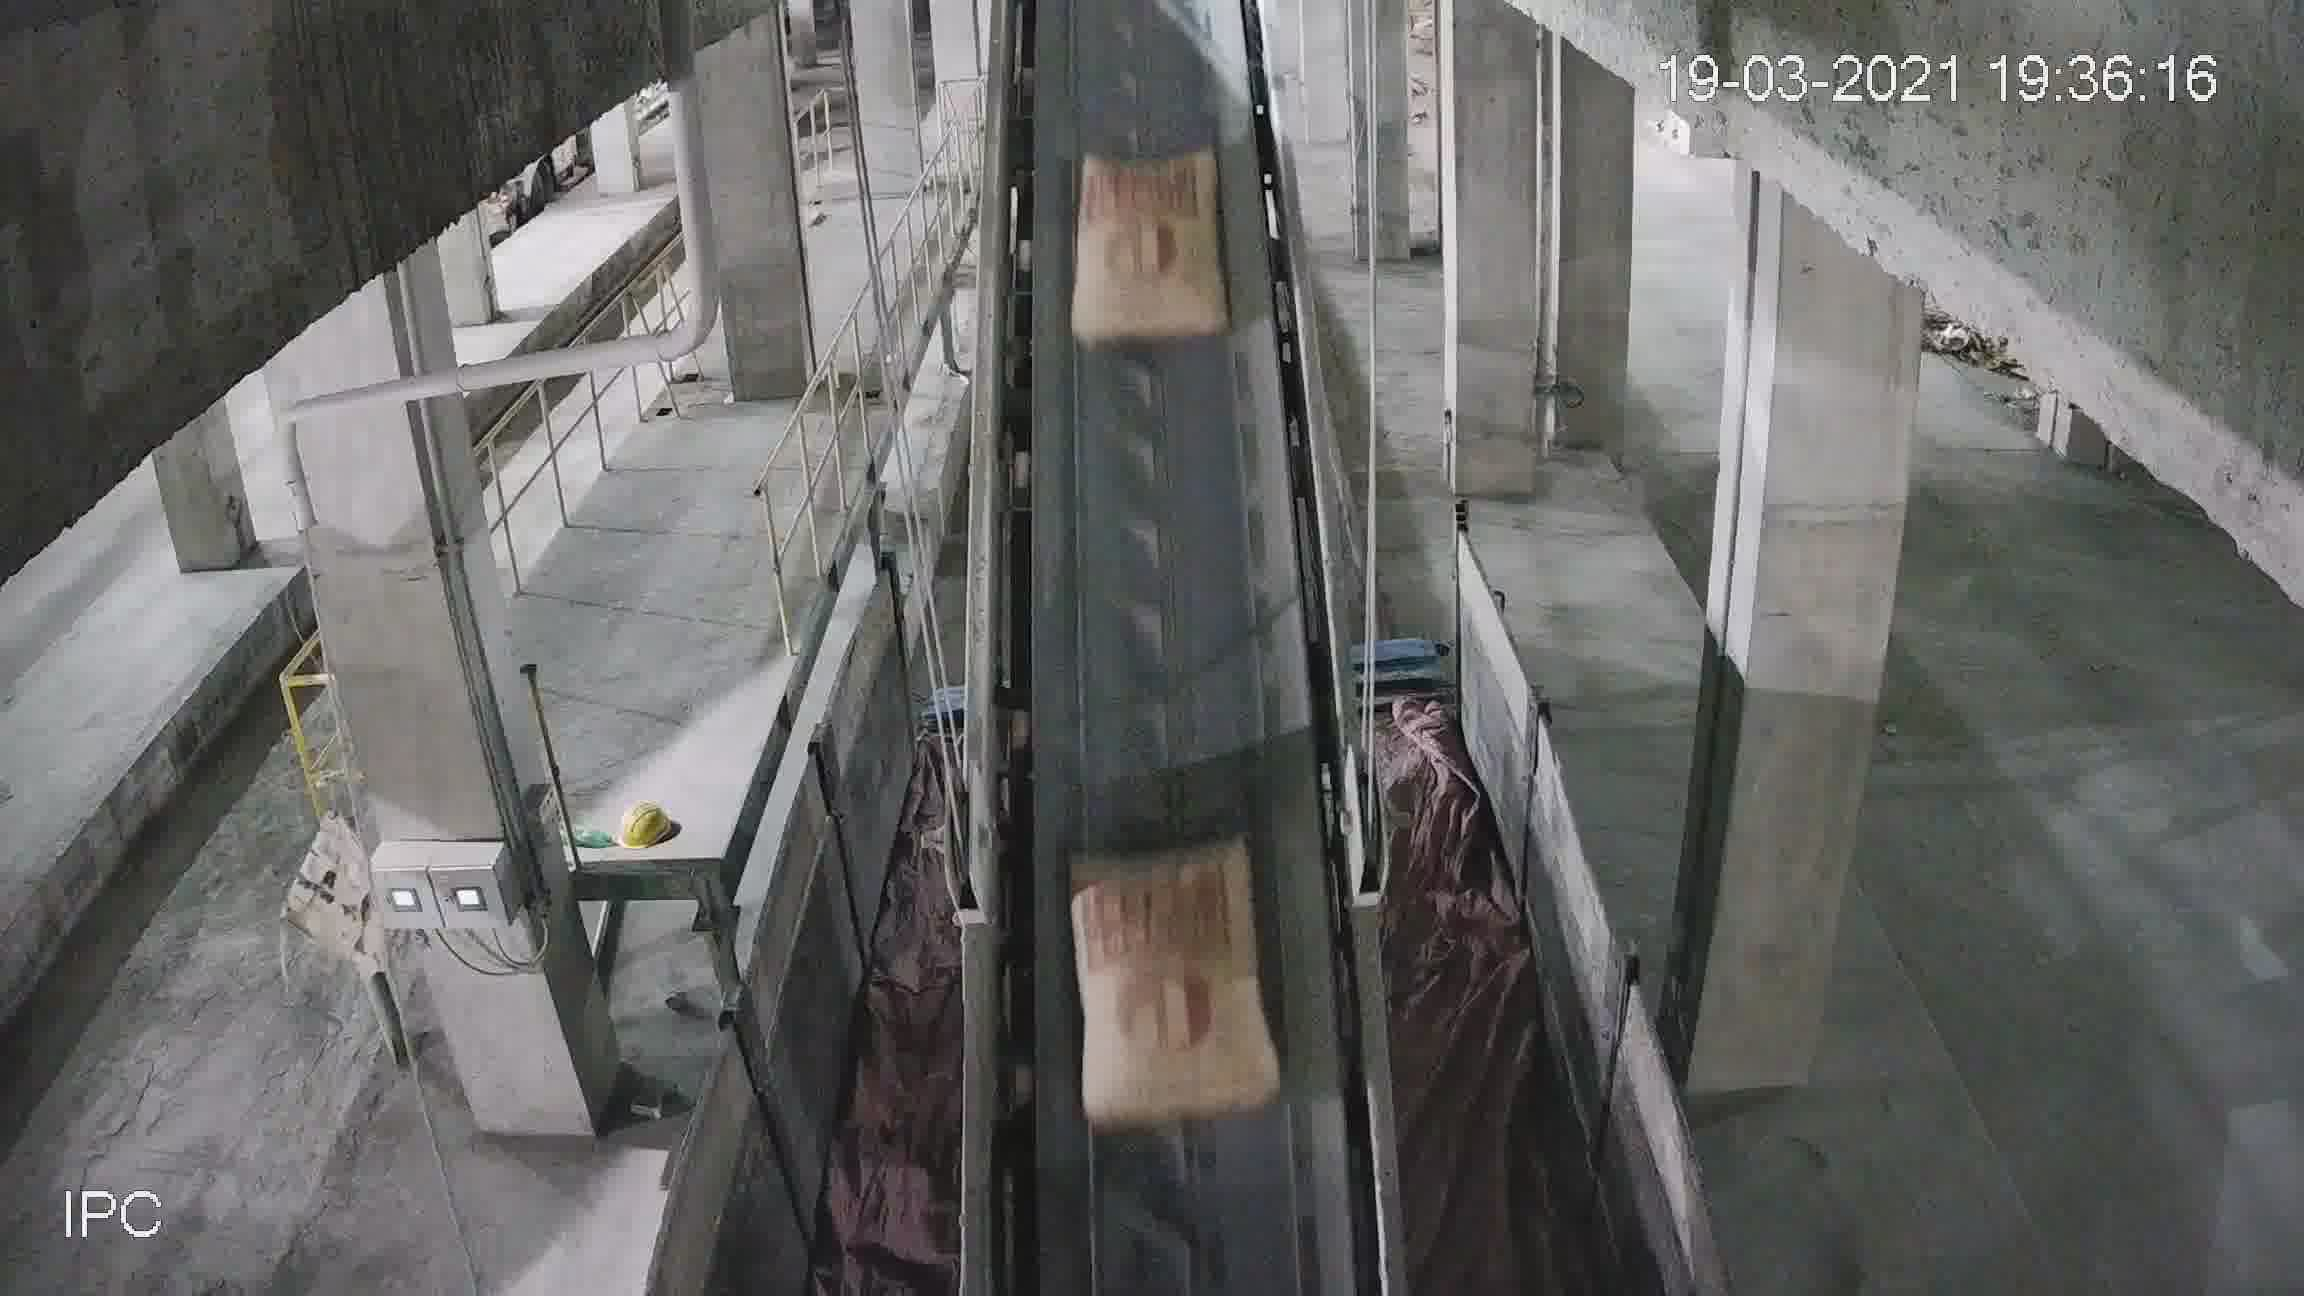bag: (1074, 855, 1263, 1127), (1078, 166, 1225, 339)
belt: (975, 101, 1374, 1234)
